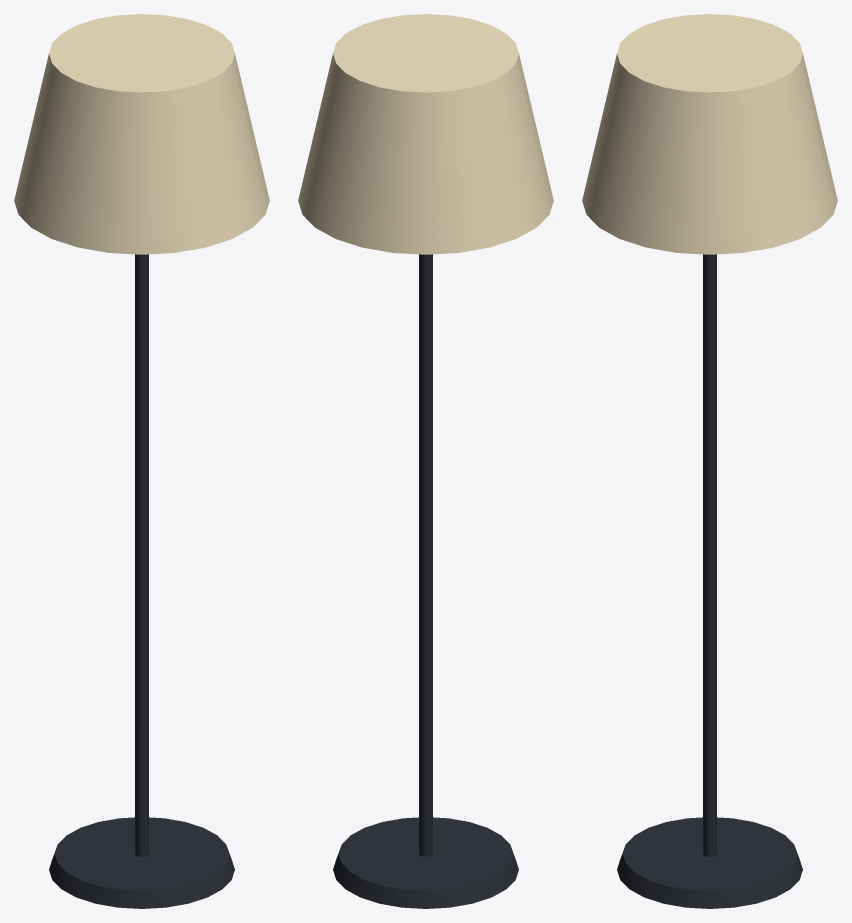
Rendered from lamp.glb.
3 views of the same model, side by side, from view 1: azimuth 30°, elevation 25°; view 2: azimuth 150°, elevation 25°; view 3: azimuth 270°, elevation 25° (orthographic).
Visible parts, largest first — view 1: lamp; view 2: lamp; view 3: lamp.
Boxes of the visible parts, x1,y1,x2,y2 form: lamp: (14, 14, 269, 908); lamp: (298, 14, 553, 908); lamp: (582, 14, 837, 908).
Bounding box in the file's own units: 0.44 × 1.55 × 0.44.
